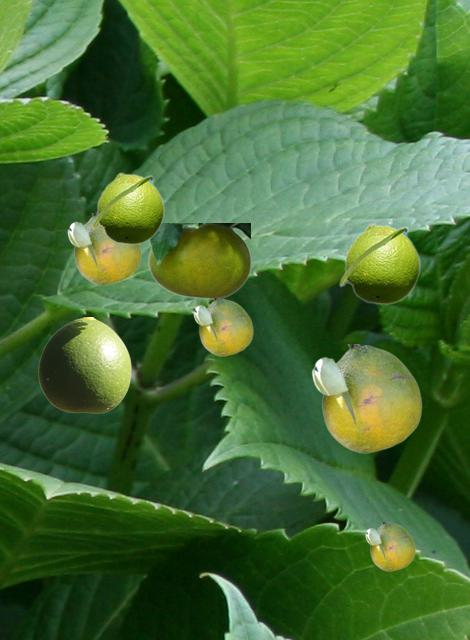dalandan: (311, 344, 421, 452), (38, 317, 130, 412), (148, 223, 249, 298), (338, 223, 420, 304), (91, 172, 164, 244), (67, 213, 140, 284), (193, 298, 252, 355), (365, 522, 414, 570)
